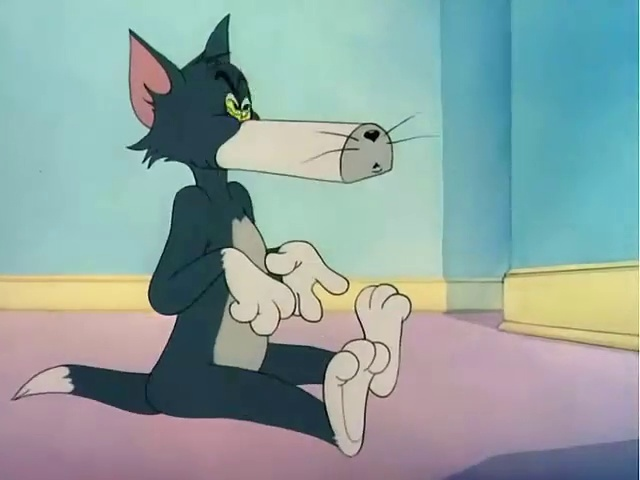tom: (40, 32, 443, 459)
